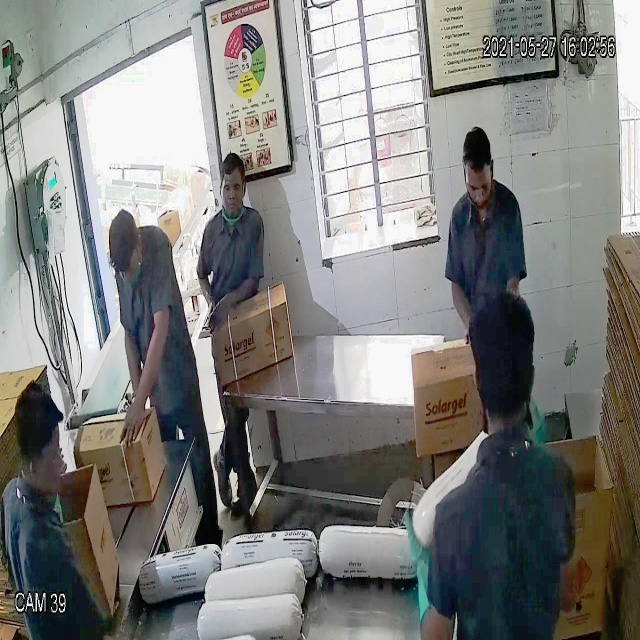Sin_gafas: (457, 171, 502, 204), (214, 175, 252, 204)
